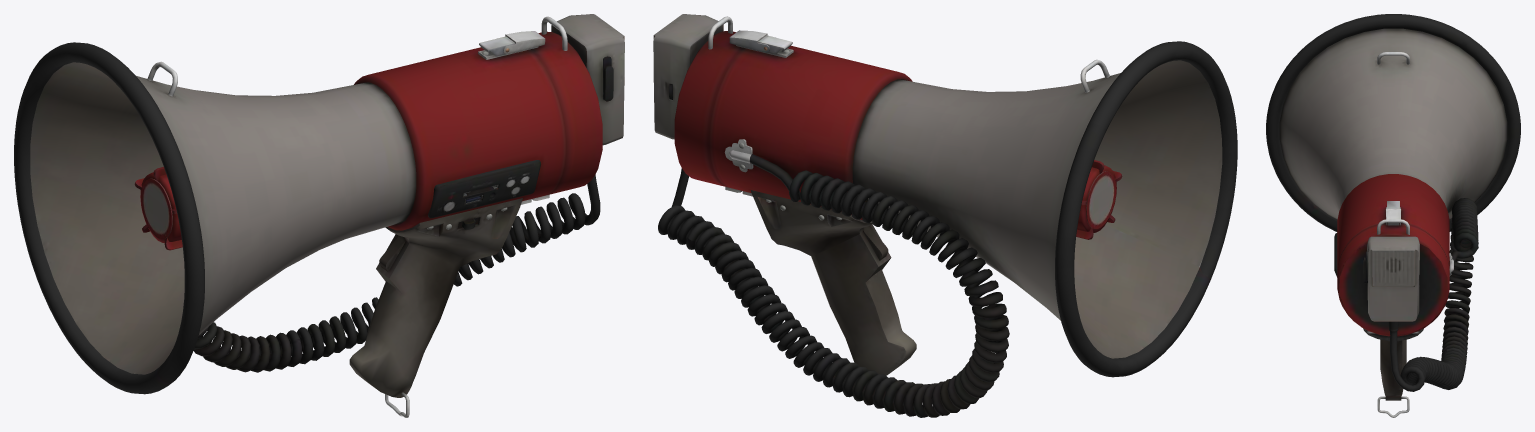
The model's file is Megaphone_01.glb.
3 views of the same model, side by side, from view 1: azimuth 30°, elevation 25°; view 2: azimuth 150°, elevation 25°; view 3: azimuth 270°, elevation 25° (orthographic). The views are drawn at different scales.
Parts seen in each view (by area): view 1: Megaphone_01; view 2: Megaphone_01; view 3: Megaphone_01.
Boxes of the visible parts, bbox=[...] form: Megaphone_01: bbox=[14, 14, 624, 417]; Megaphone_01: bbox=[653, 14, 1237, 417]; Megaphone_01: bbox=[1266, 14, 1520, 417].
Size of the model in its own units: 0.3707 by 0.3001 by 0.2284.
1 material, 1 textured.
